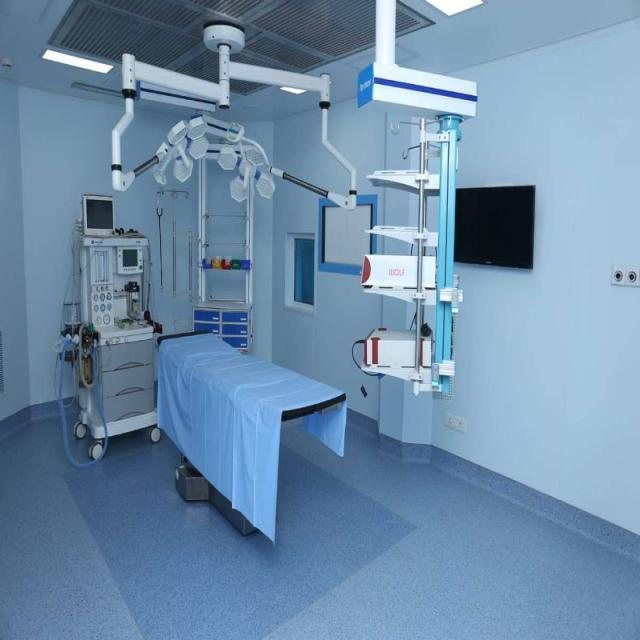Monitor: (67, 190, 155, 322)
bed: (154, 329, 346, 546)
